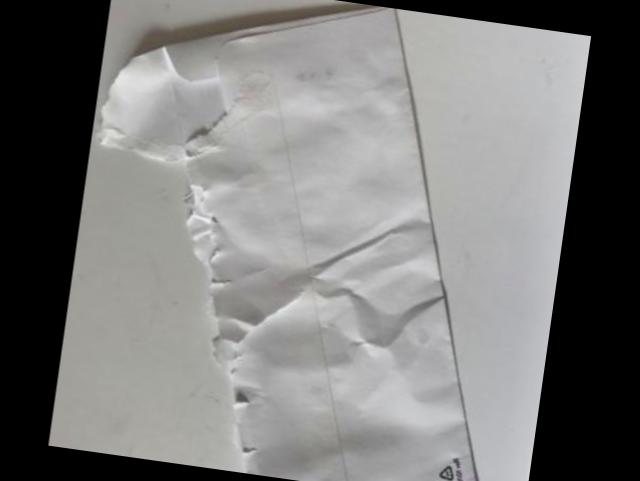cardboard paper: (102, 7, 480, 481)
